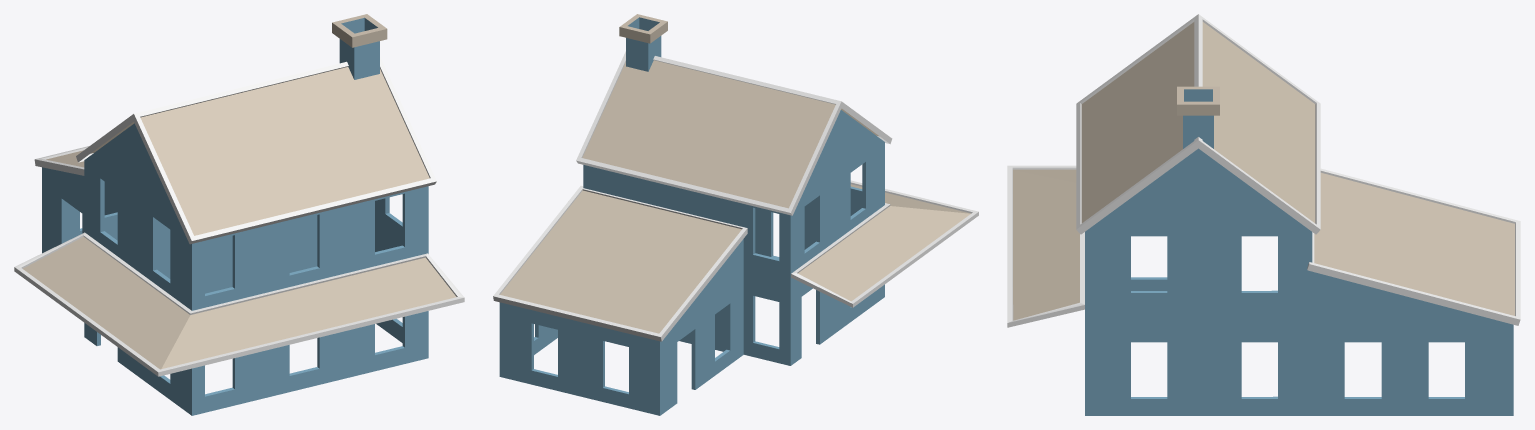
Rendered from House3_test1.obj.
3 renders of one model, left to right at view 1: azimuth 30°, elevation 25°; view 2: azimuth 150°, elevation 25°; view 3: azimuth 270°, elevation 25°, orthographic. The views are drawn at different scales.
Parts seen in each view (by area): view 1: House3_test1; view 2: House3_test1; view 3: House3_test1.
Boxes of the visible parts, x1,y1,x2,y2 form: House3_test1: (14,14,464,415); House3_test1: (493,14,978,415); House3_test1: (1007,14,1520,415).
Size of the model in its own units: 65.43 by 59.6 by 88.62.
